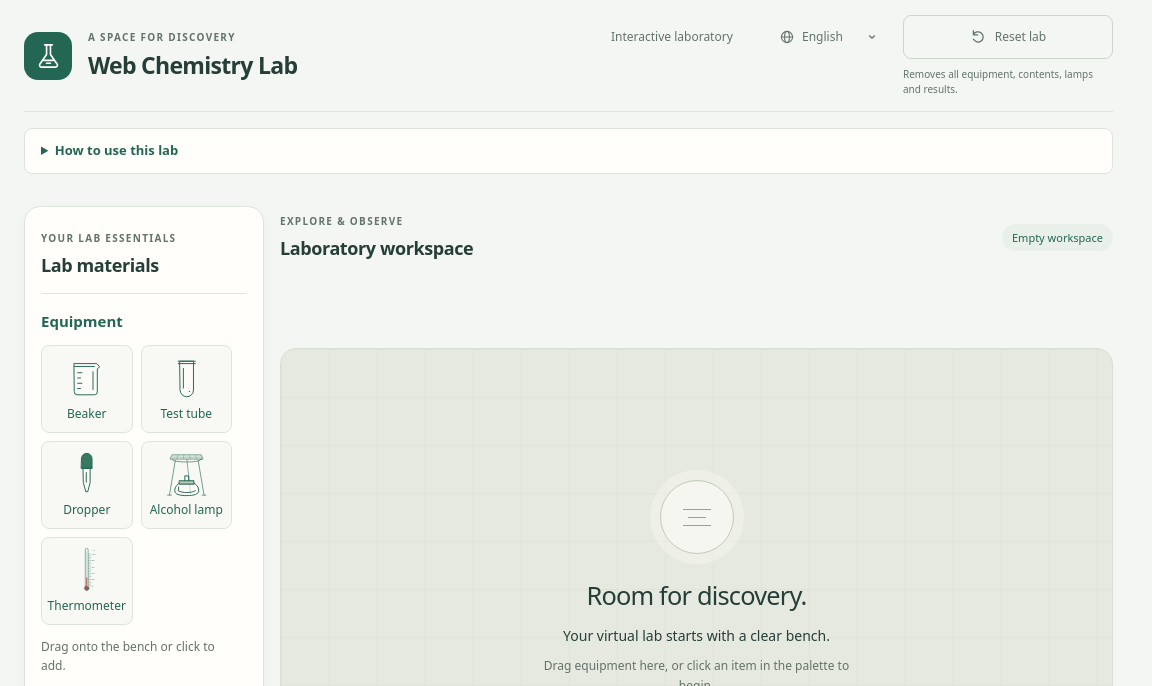
Test: contextual teaching copy › keeps Materials action guidance/search and unit explanations in Help (vi)
The image size is (1152, 686).
Select "Tiếng Việt" in the dropdown named "Language". click: {"x": 828, "y": 36}
box: [769,14,887,58]
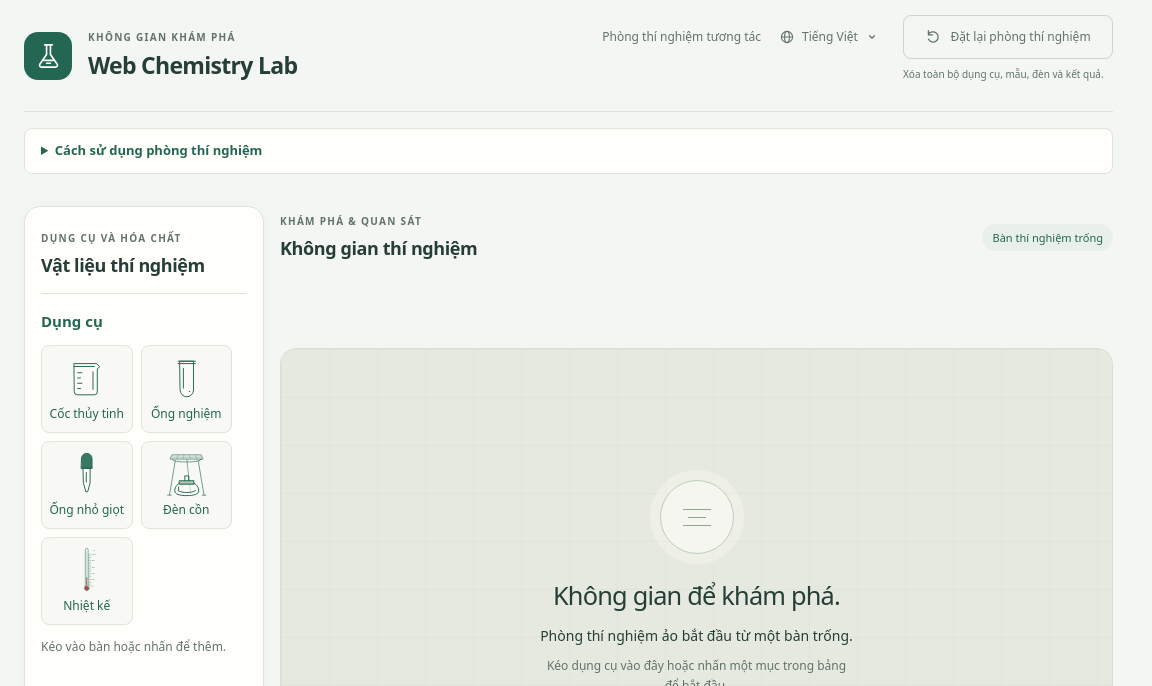
Click the button "Cốc thủy tinh". click: {"x": 87, "y": 388}
box: [41,344,132,432]
(page scrolled)
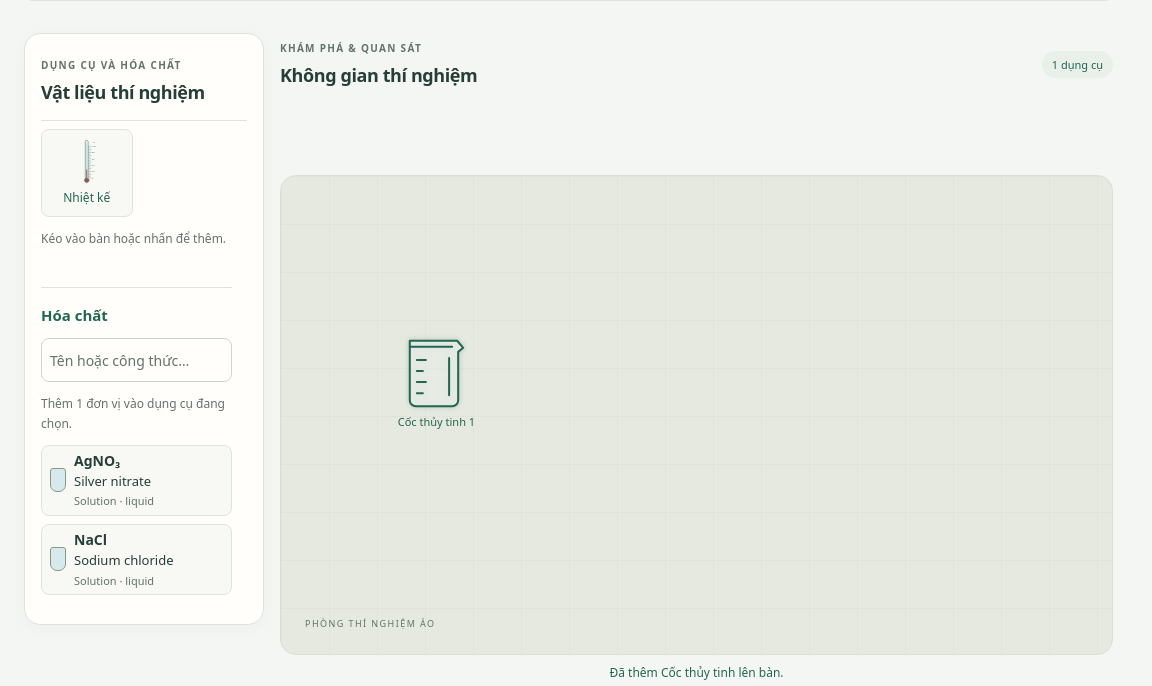
Now the text "Thêm 1 đơn vị vào dụng cụ đang chọn." is shown, box [41,394,232,433]
Type "AgNO3" into the search field named "Tìm hóa chất". click: {"x": 136, "y": 360}
box: [41,338,232,382]
(page scrolled)
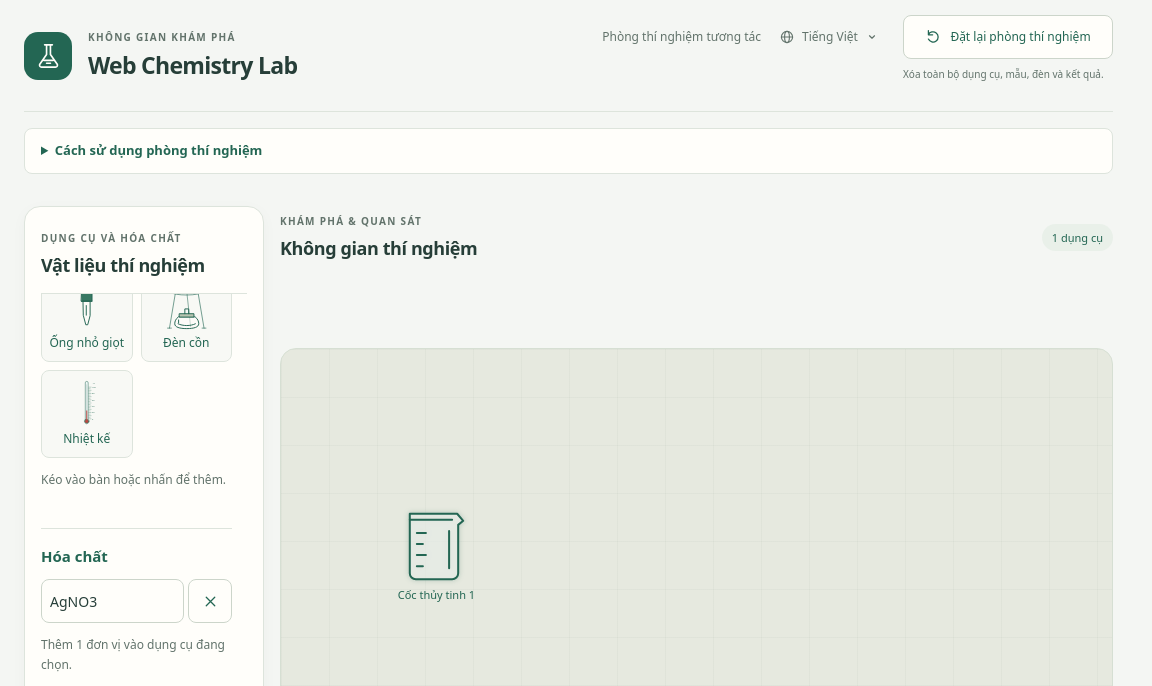
Click the heading "Cách sử dụng phòng thí nghiệm". click: {"x": 159, "y": 150}
box: [55,141,262,159]
(page scrolled)
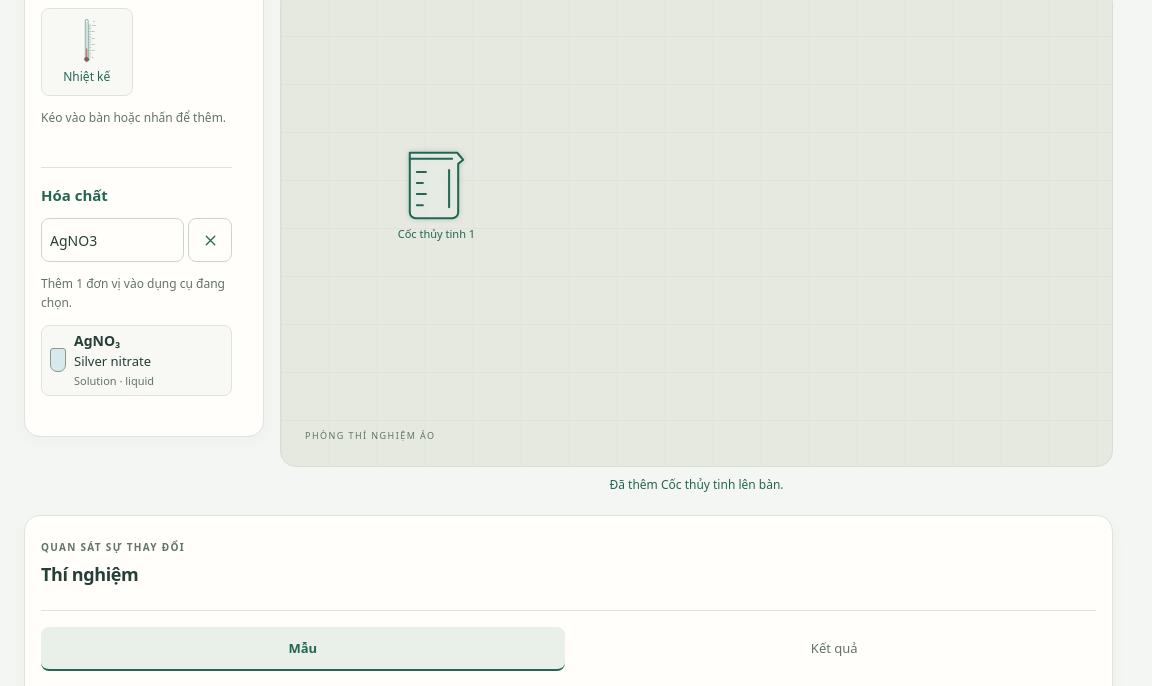
Click the button "AgNO₃ Silver nitrate Solution · liquid". click: {"x": 136, "y": 360}
box: [41,325,232,396]
(page scrolled)
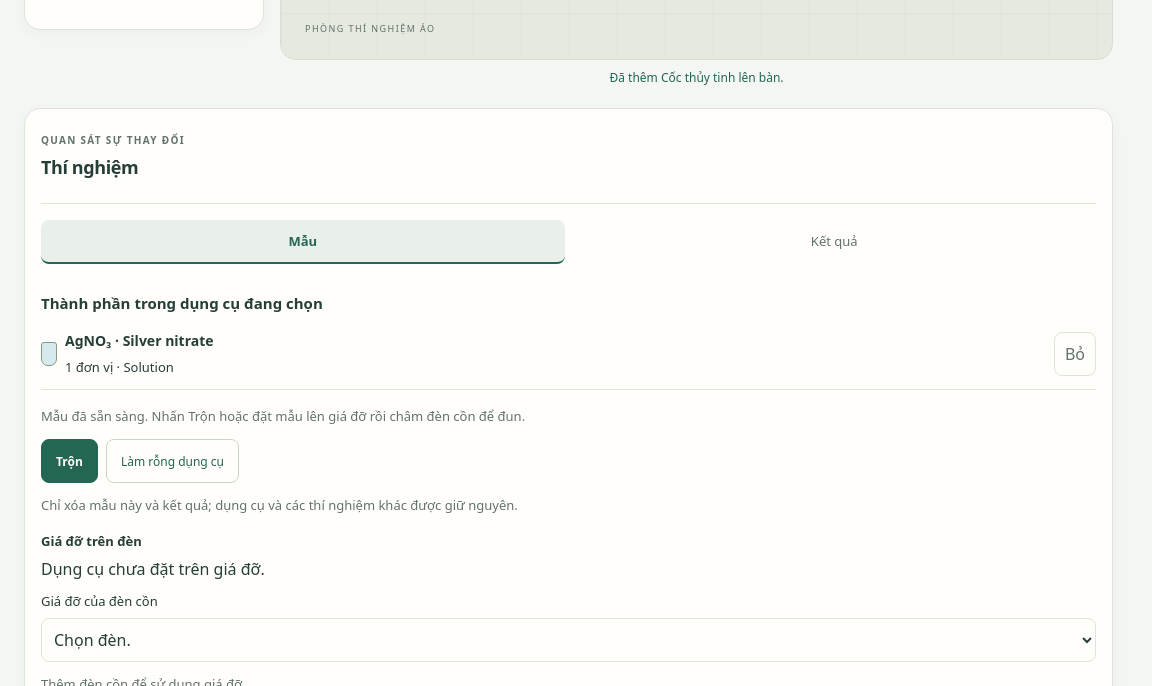
Now the list named "Thành phần trong dụng cụ" shows "AgNO₃ · Silver nitrate", box [41,330,1096,390]
